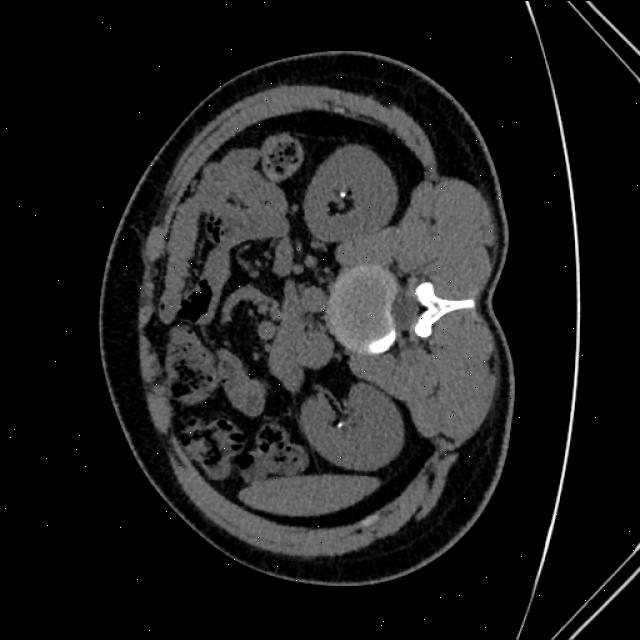kidneystone: (335, 422, 346, 428), (339, 191, 347, 198)
